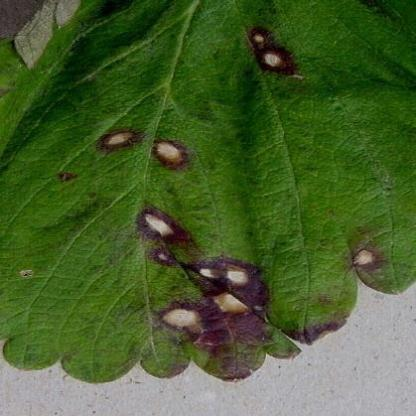Strawberry_Leaf_Spot: (0, 0, 415, 385)
